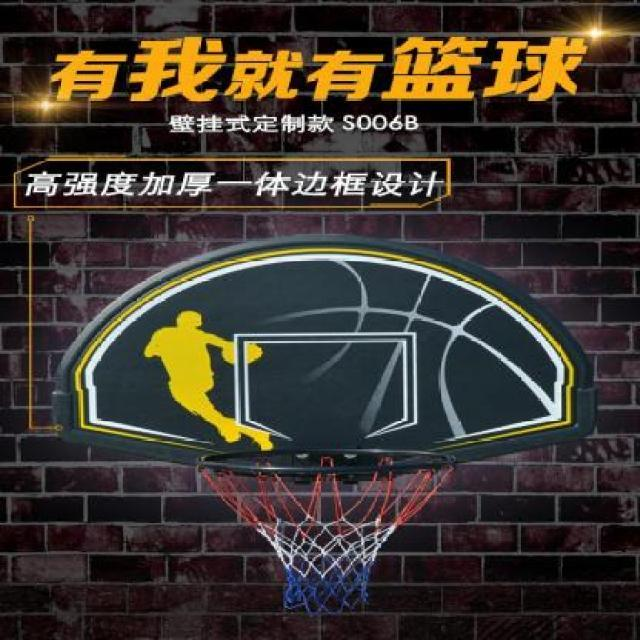rim: (199, 451, 456, 613)
